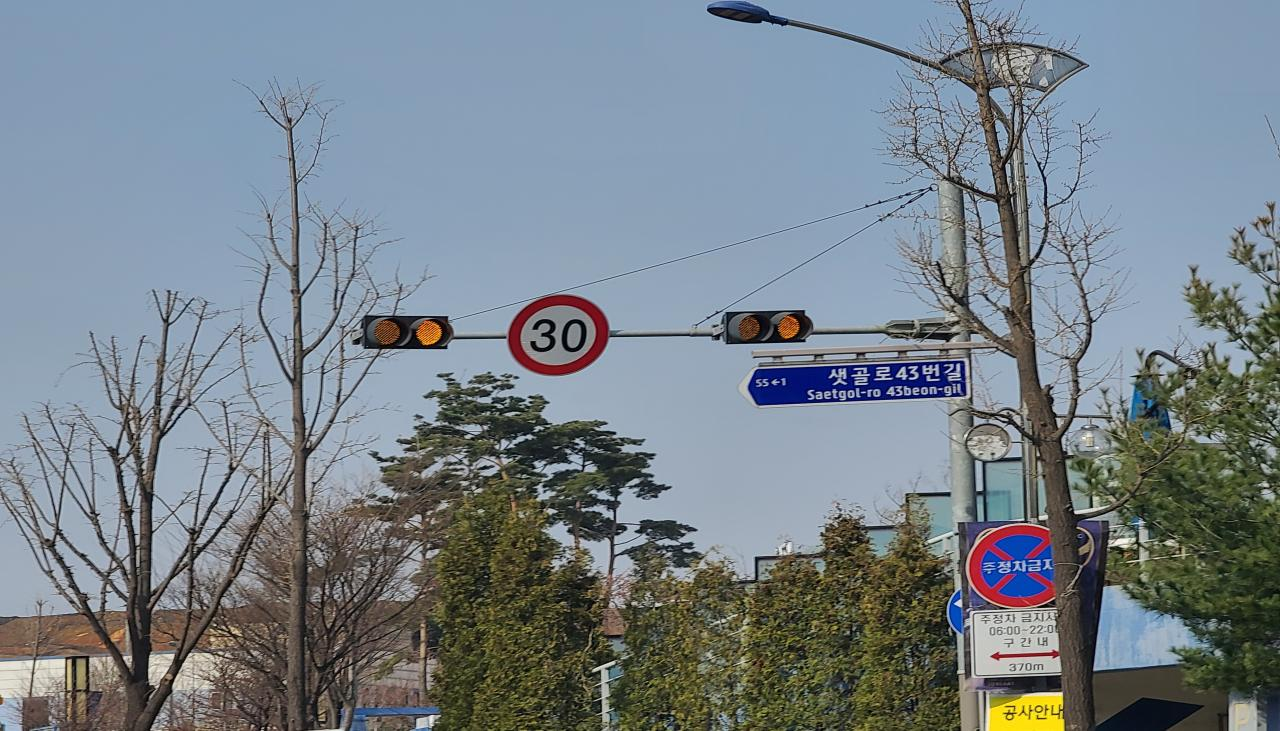Yellow Light: (410, 318, 448, 347), (366, 319, 403, 347), (776, 312, 808, 342), (734, 313, 764, 342)
